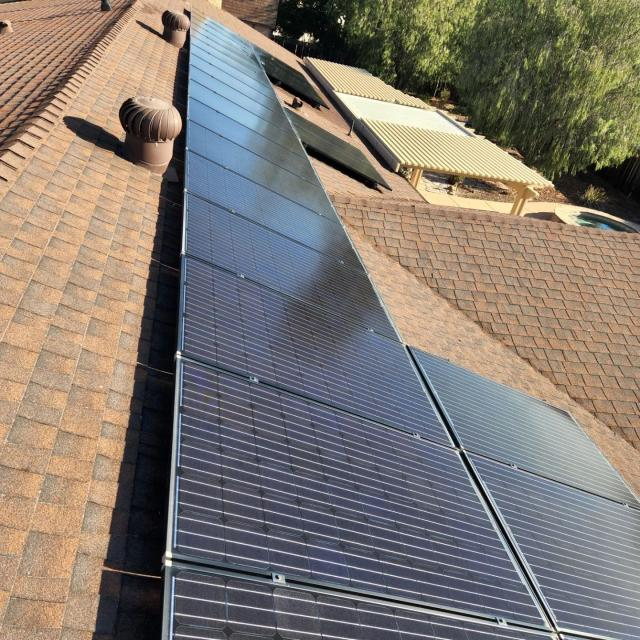clean-solar-panel: (169, 24, 640, 640)
